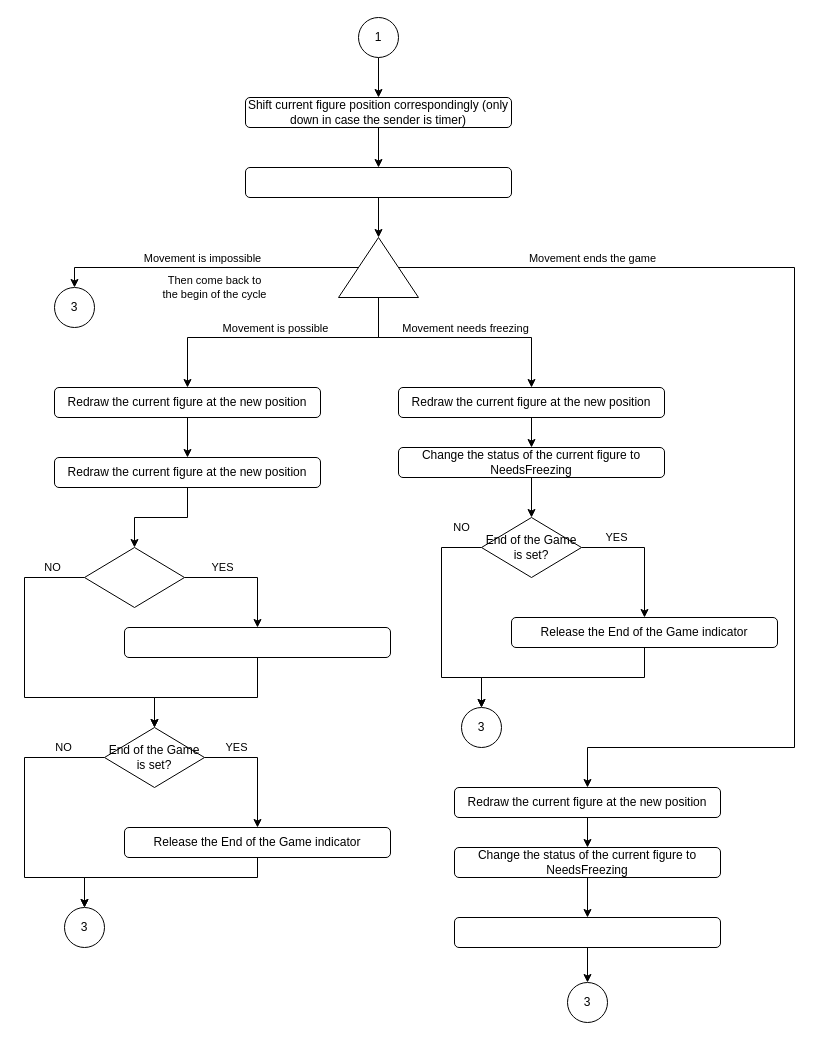
The diagram is 820 pixels wide and 1040 high, and some of its shapes have lost their labels. The shapes that lost their labels are listed below. From the top down, each one's centre as x and y in pixels, then its label:
the point at 378,182: Get the movement outcome
the point at 378,267: Case
the point at 134,577: Needs Freezing set?
the point at 257,642: Unfreeze the current figure
the point at 587,932: Set the End of the Game indicator
